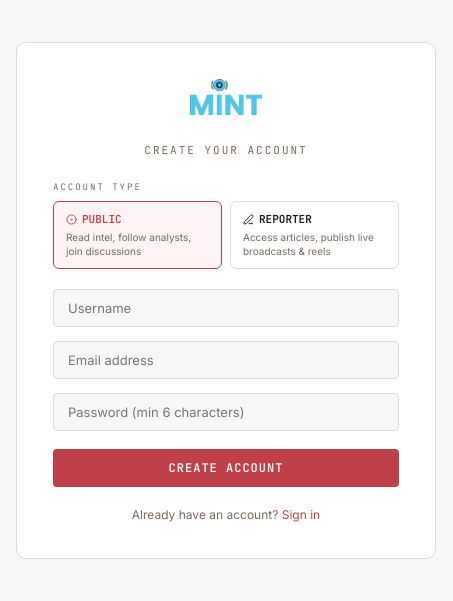
Scenario: Register page › shows validation error when fields are empty
Click the button "CREATE ACCOUNT": (226, 468) top-left (53, 448), bottom-right (399, 486)
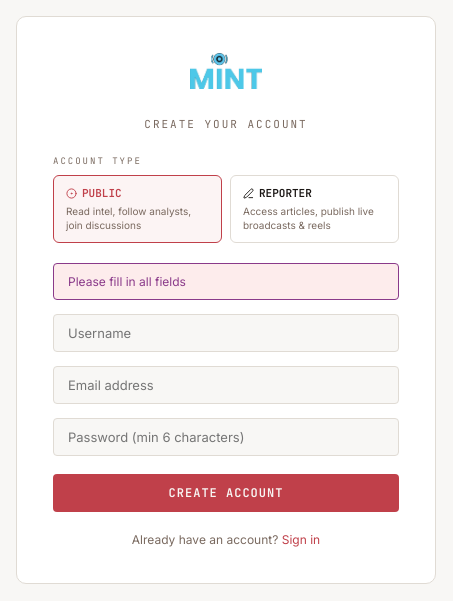
Now the text "Please fill in all fields" is shown, box top-left (53, 263), bottom-right (399, 300)
